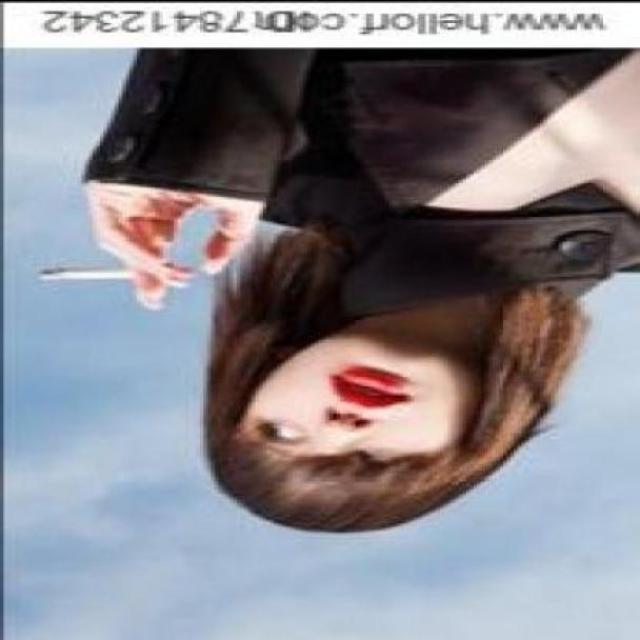rokok: (36, 266, 140, 284)
